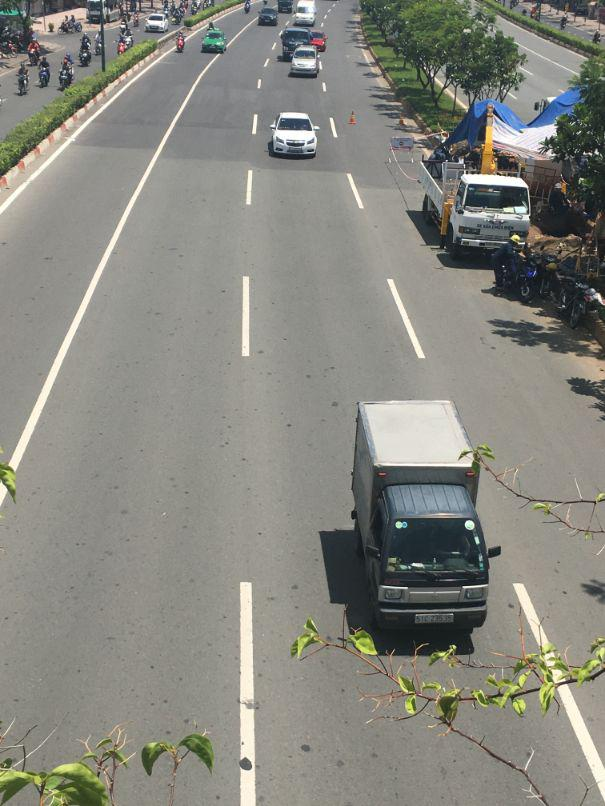car: (270, 110, 318, 157), (288, 46, 319, 78), (201, 28, 226, 55), (146, 14, 169, 34), (258, 10, 277, 26)
motorbike: (58, 61, 73, 89), (16, 65, 28, 95), (40, 63, 51, 86)
truck: (348, 399, 496, 638), (409, 151, 531, 260)
